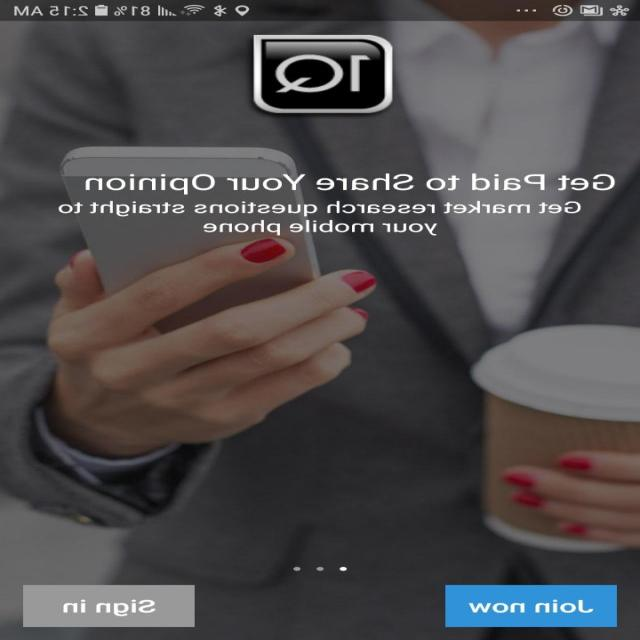BackgroundImage: (1, 21, 640, 639)
Image: (253, 34, 395, 114)
Text: (59, 200, 582, 236), (85, 172, 616, 195)
TextButton: (445, 584, 618, 627), (23, 584, 196, 627)
